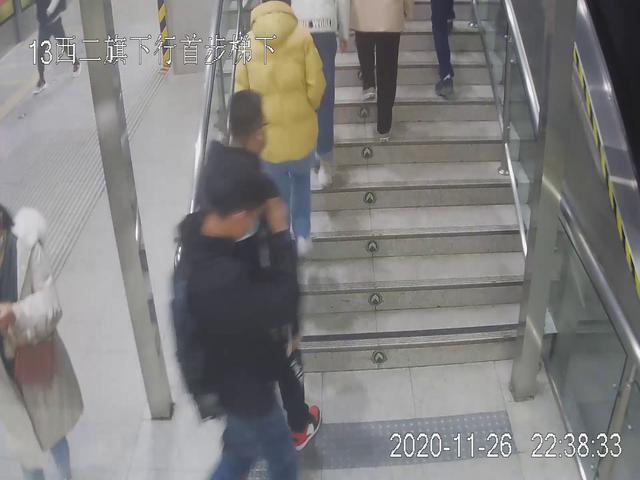person: (167, 150, 306, 480), (229, 1, 325, 260)
